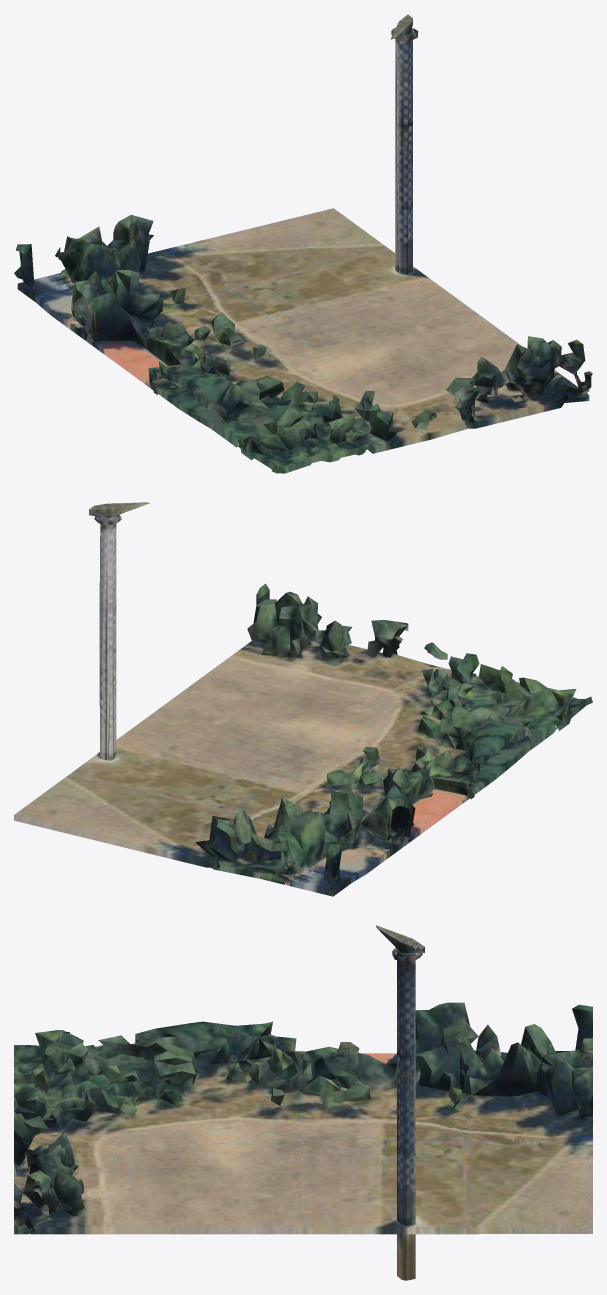
The picture shows the model from 3 angles, top to bottom: view 1: azimuth 30°, elevation 25°; view 2: azimuth 150°, elevation 25°; view 3: azimuth 270°, elevation 25°; orthographic projection. The views are drawn at different scales.
Visible parts, largest first — view 1: 304362727043704245_0; view 2: 304362727043704245_0; view 3: 304362727043704245_0.
Boxes of the visible parts, x1=… form: 304362727043704245_0: x1=14, y1=14, x2=592, y2=473; 304362727043704245_0: x1=14, y1=502, x2=592, y2=896; 304362727043704245_0: x1=14, y1=925, x2=592, y2=1280.
Bounding box in the file's own units: 112 × 98 × 153.
Materials: 1 (1 with a texture image).
